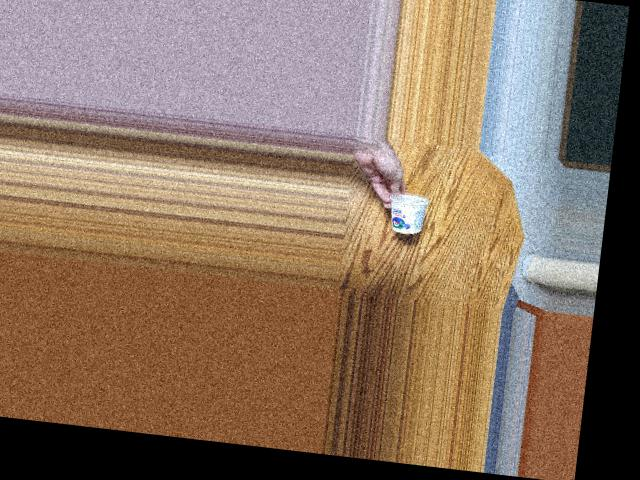cotage: (378, 183, 433, 236)
